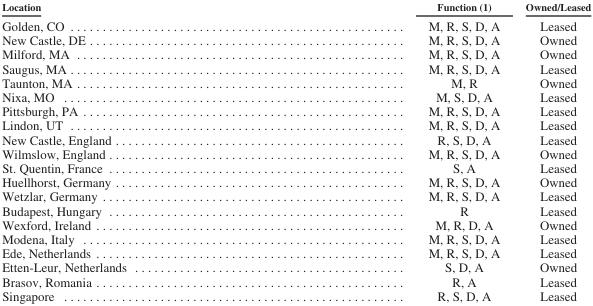table: (1, 0, 590, 302)
table column: (1, 0, 276, 302), (276, 0, 512, 302), (512, 0, 590, 302)
table column header: (1, 0, 590, 15)
table row: (1, 15, 590, 32), (1, 0, 590, 15), (1, 46, 590, 61), (1, 117, 590, 132), (1, 188, 590, 203), (1, 259, 590, 274), (1, 32, 590, 46), (1, 61, 590, 75), (1, 75, 590, 89), (1, 89, 590, 103), (1, 103, 590, 117), (1, 132, 590, 146), (1, 146, 590, 160), (1, 160, 590, 174), (1, 174, 590, 188), (1, 203, 590, 217), (1, 217, 590, 231), (1, 231, 590, 245), (1, 245, 590, 259), (1, 274, 590, 288), (1, 288, 590, 302)
